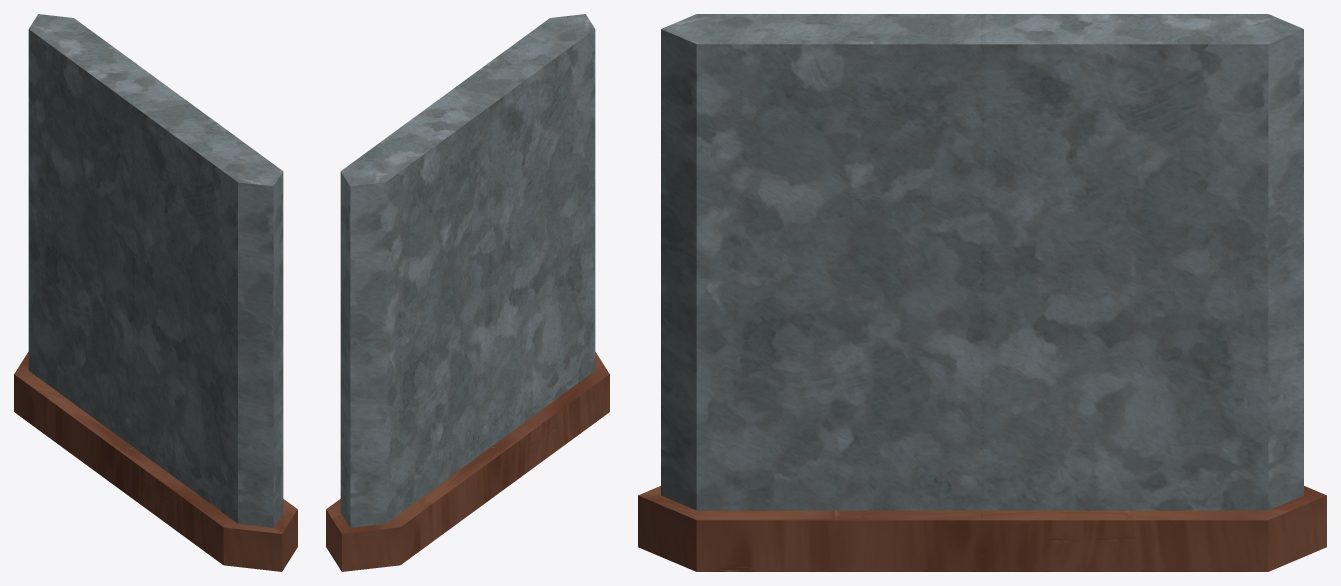
The model's file is wall_lowtrim.fbx.
3 renders of one model, left to right at view 1: azimuth 30°, elevation 25°; view 2: azimuth 150°, elevation 25°; view 3: azimuth 270°, elevation 25°, orthographic. The views are drawn at different scales.
Parts seen in each view (by area): view 1: wall_border; view 2: wall_border; view 3: wall_border.
Boxes of the visible parts, bbox=[...] form: wall_border: bbox=[14, 14, 297, 571]; wall_border: bbox=[326, 14, 609, 571]; wall_border: bbox=[638, 14, 1326, 571].
Bounding box in the file's own units: 2.05 × 10 × 12.05.
2 materials, 2 textured.
